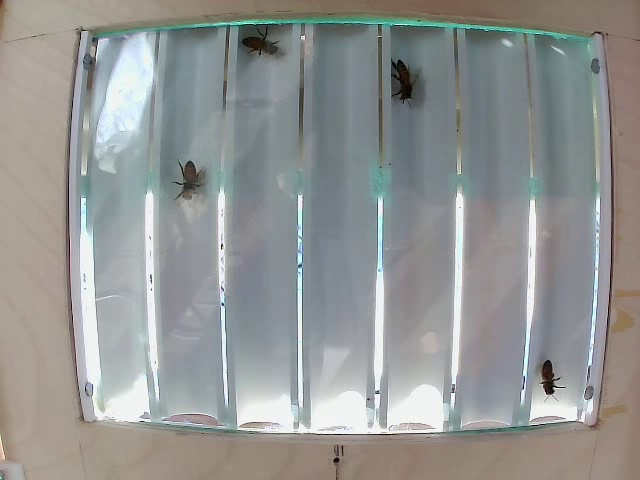bee: (228, 25, 292, 62), (386, 52, 422, 111), (164, 161, 211, 197), (534, 360, 558, 403)
